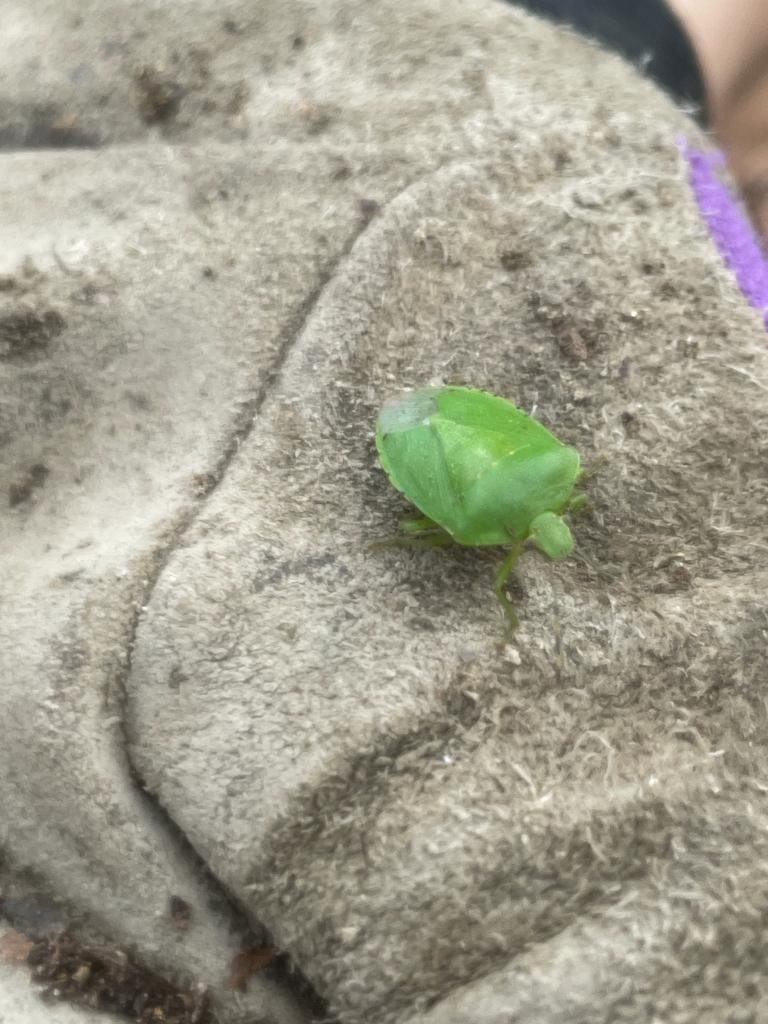stink_bugs: (316, 315, 684, 666)
